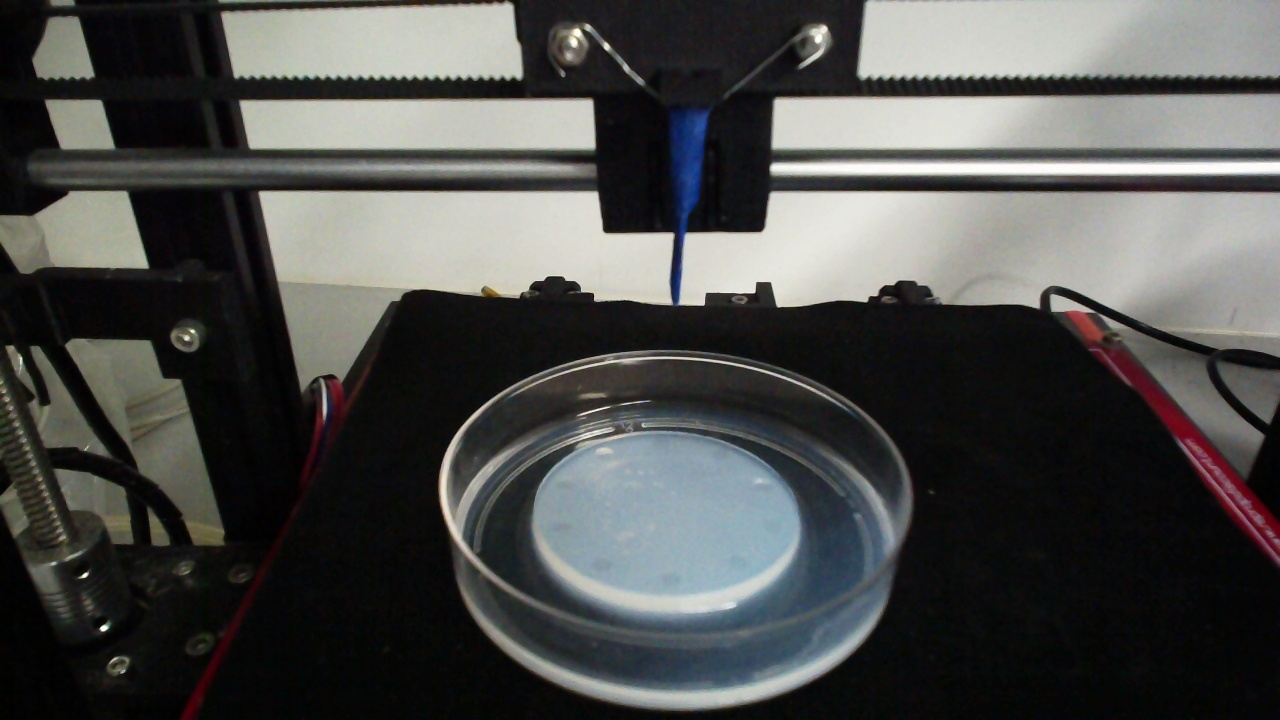groove: (728, 552, 752, 572), (760, 515, 784, 535), (551, 476, 578, 493), (658, 570, 685, 587), (589, 555, 615, 572), (545, 519, 572, 534), (748, 477, 772, 492), (593, 445, 615, 461), (649, 437, 671, 451), (708, 448, 729, 461)
needle: (669, 107, 709, 306)
